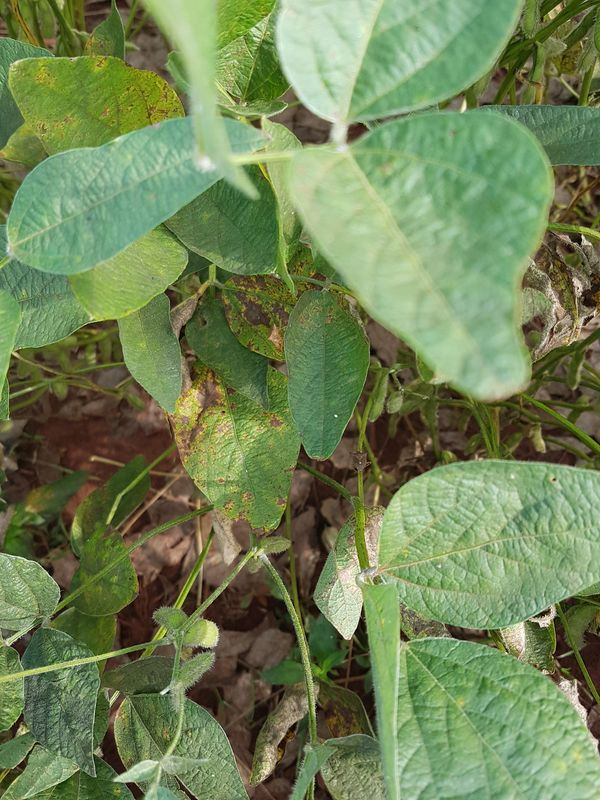Euschistus_heros_adulto: (344, 442, 375, 480)
